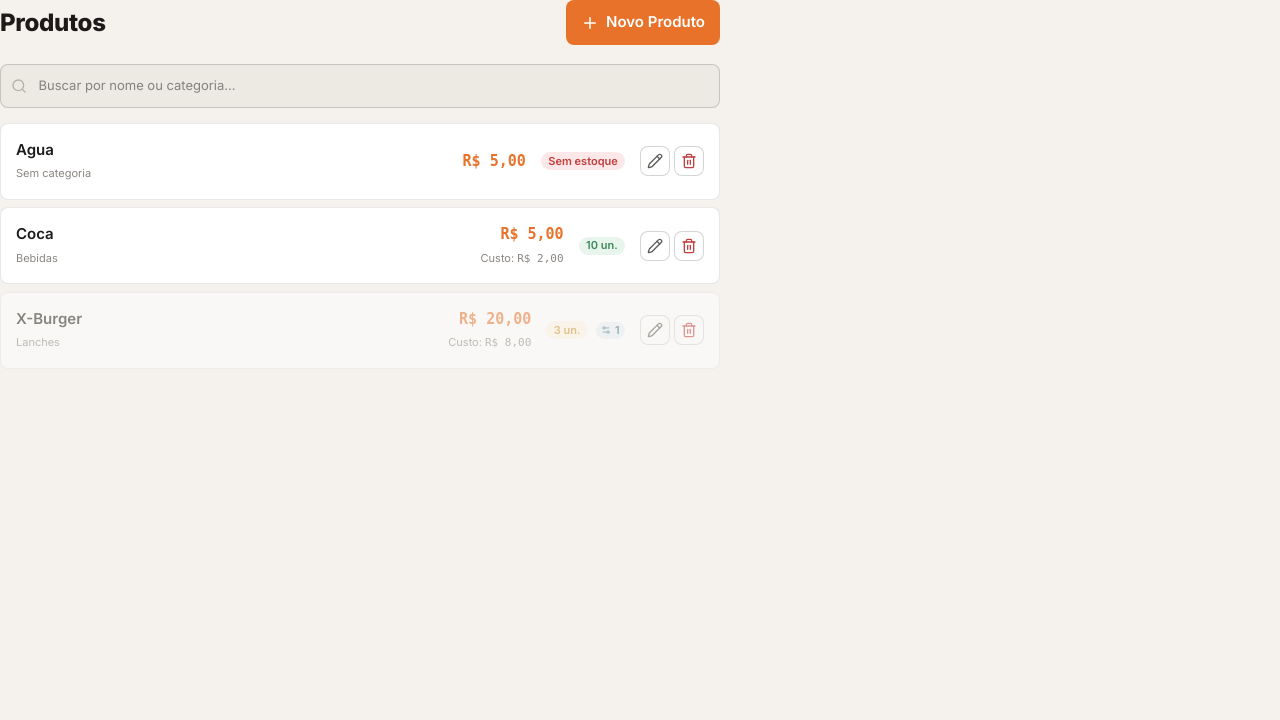
Test case: ProductsPage › keeps the modal open and toasts when create returns Left
This screenshot has width=1280, height=720.
Expected: the text "Coca" is shown, [16,224,54,243]
Click the button "Novo Produto": point(643, 22) [566,0,720,45]
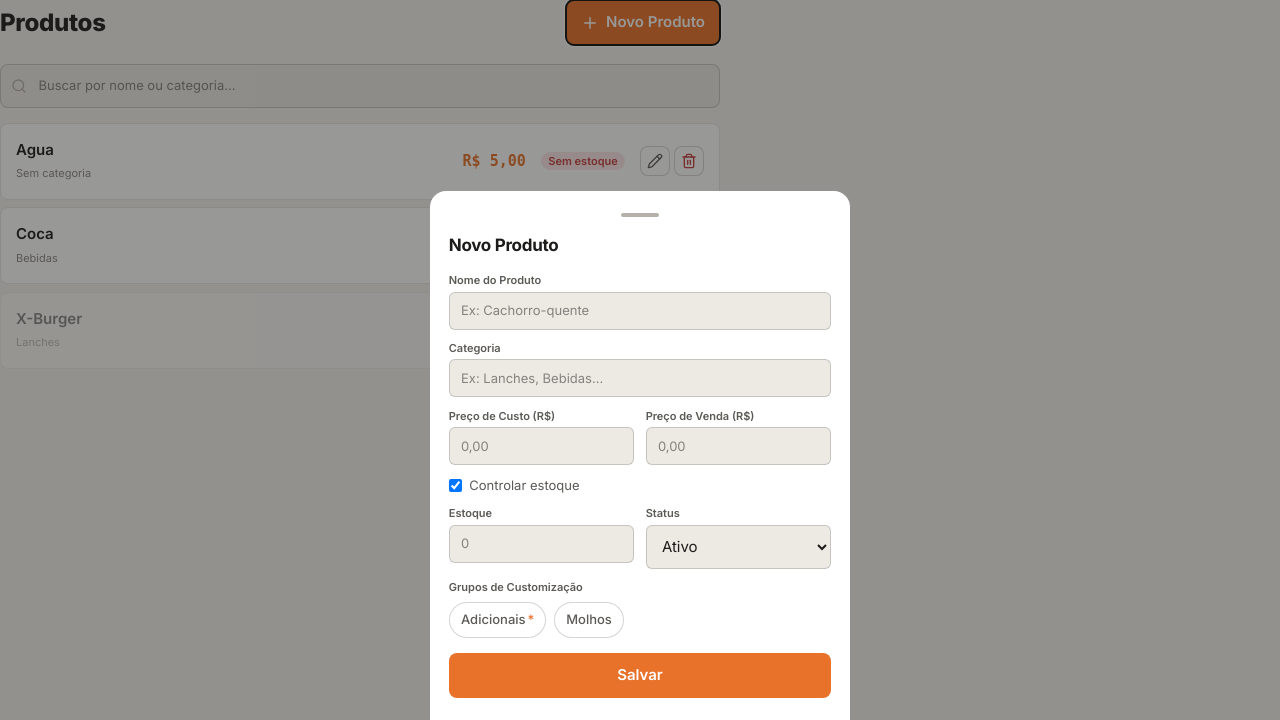
Click the button "Salvar": point(640, 675) [449,652,831,698]
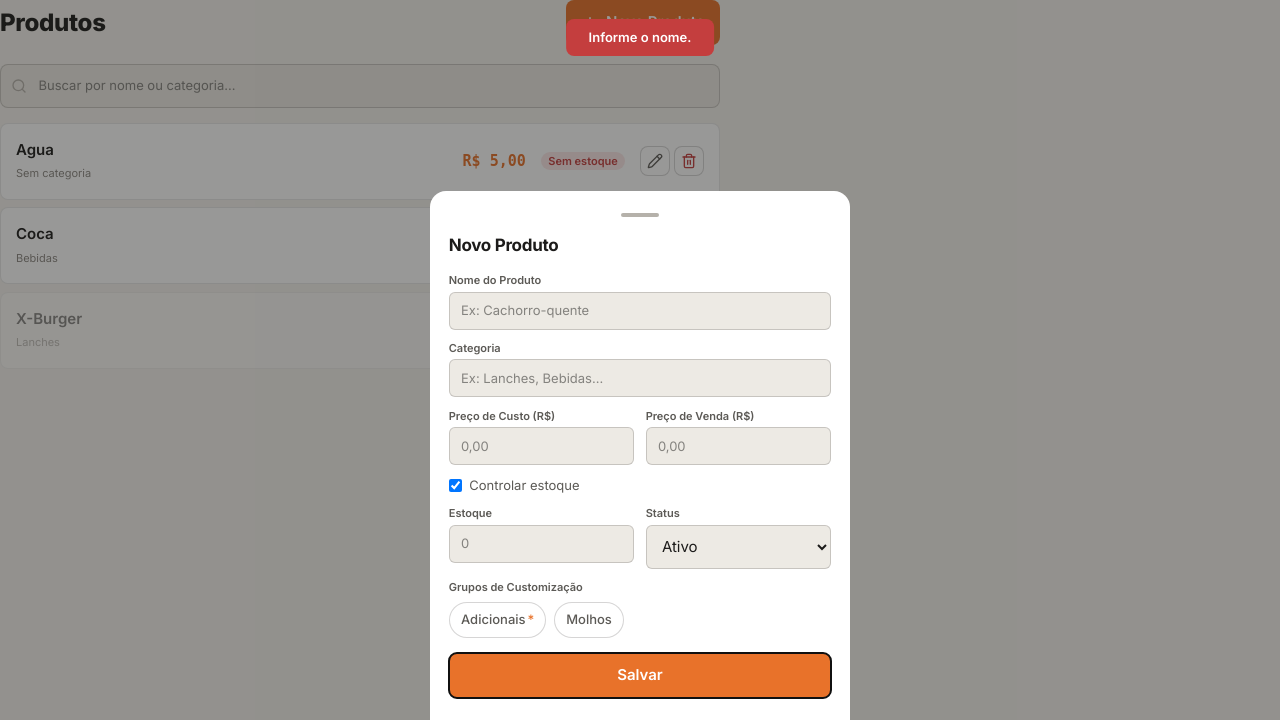
Expected: the dialog is shown, [430,191,850,719]
Expected: the message reads "Informe o nome.", [589,29,691,45]
